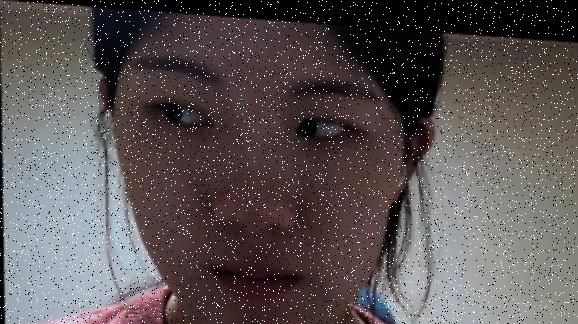eye: (155, 95, 181, 123), (292, 110, 317, 135)
iris: (295, 111, 350, 138), (156, 99, 212, 125)
